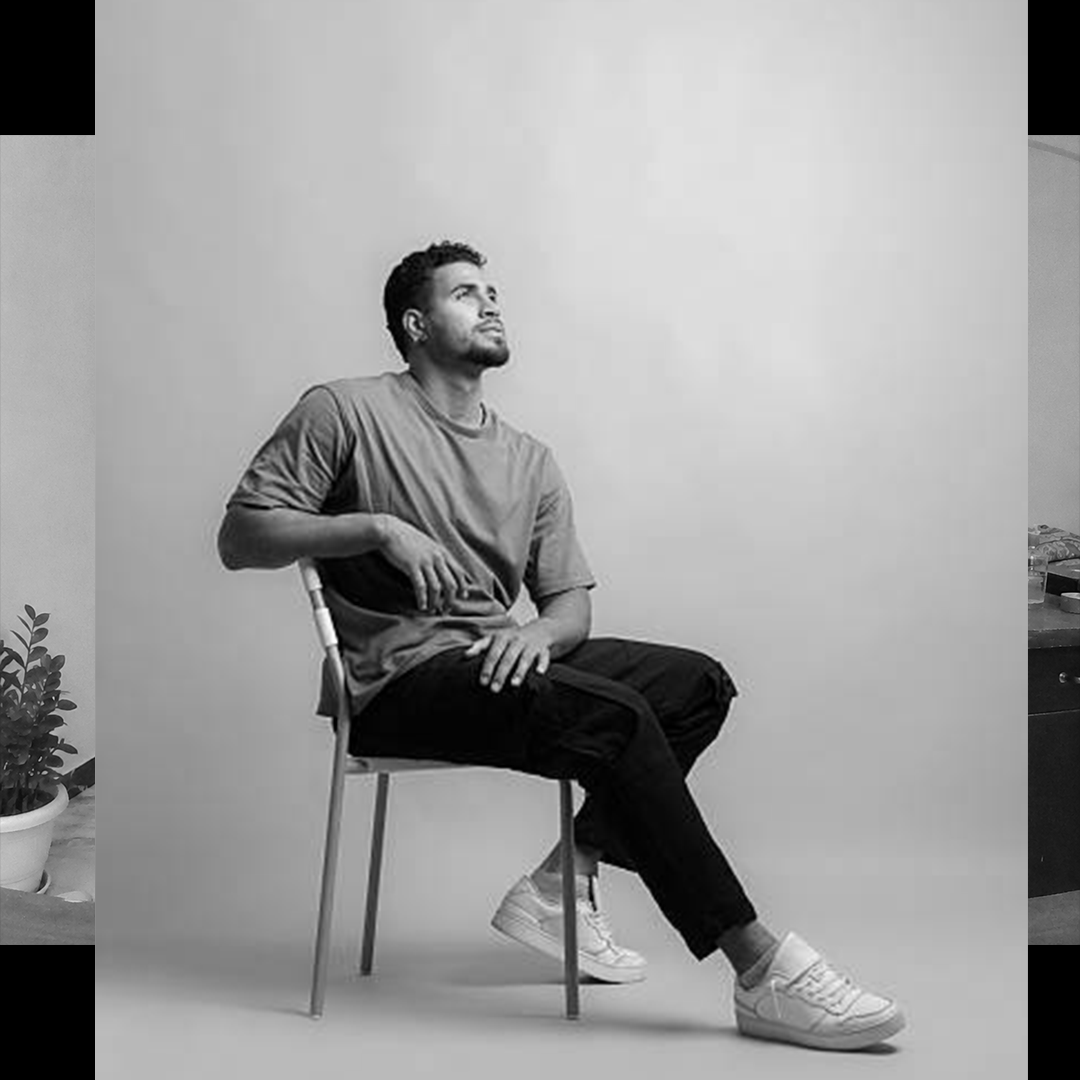distracted: (342, 189, 616, 684)
